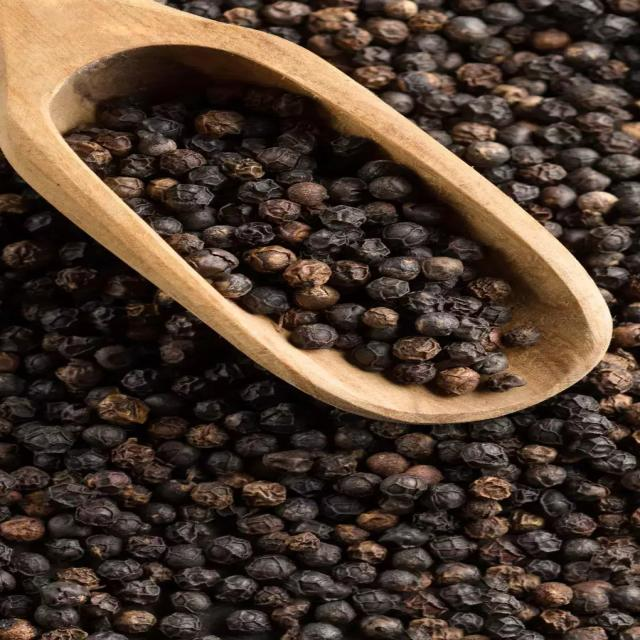Black pepper: (109, 79, 524, 392), (299, 425, 633, 640), (0, 394, 285, 638), (427, 4, 640, 128), (538, 139, 635, 229), (365, 253, 431, 306), (185, 101, 249, 151), (455, 465, 517, 511), (69, 495, 128, 536), (171, 420, 237, 455), (512, 526, 569, 562), (408, 307, 462, 344), (287, 320, 341, 357), (163, 181, 220, 215), (251, 193, 301, 231), (292, 279, 342, 316), (382, 471, 429, 506), (232, 483, 296, 508), (100, 398, 147, 430), (239, 557, 294, 583), (237, 243, 287, 268), (322, 203, 363, 232)
